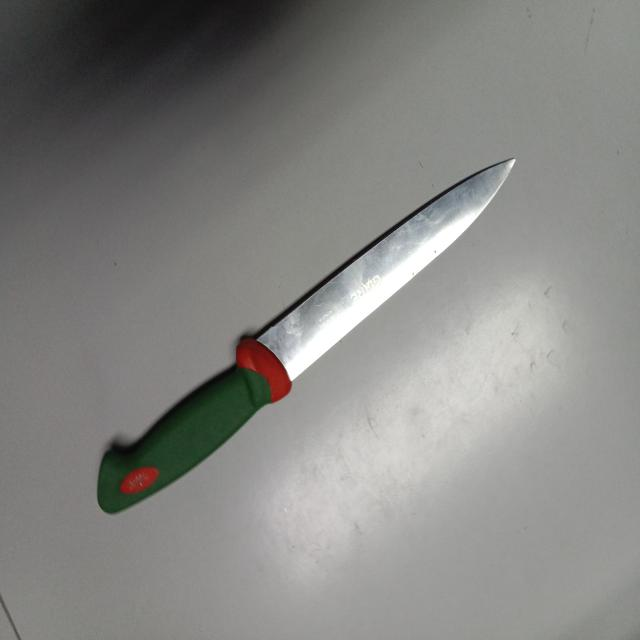Knife: (97, 158, 515, 513)
